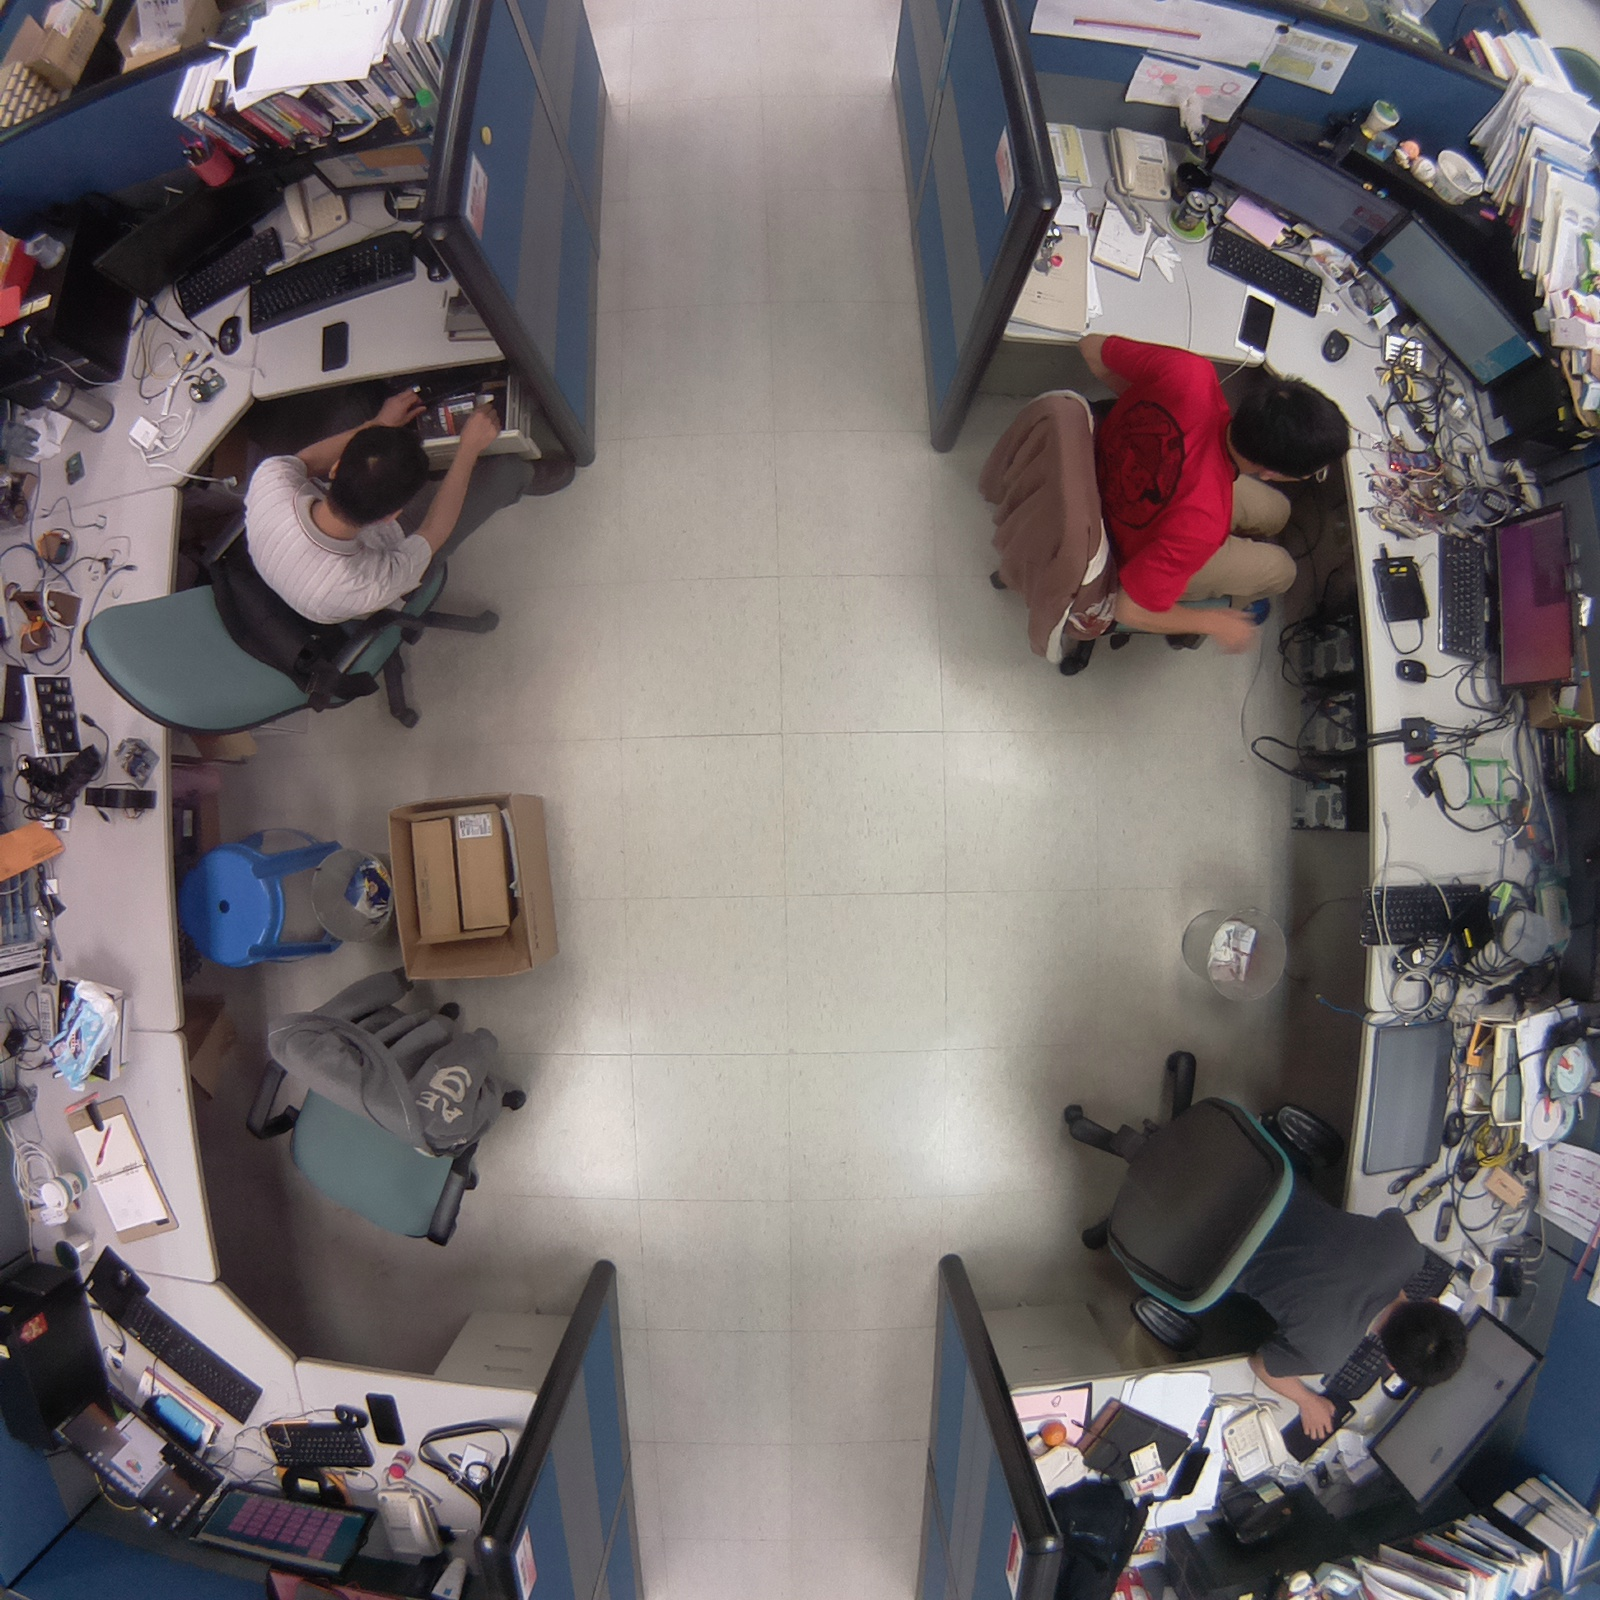chair: (229, 947, 547, 1260)
head: (1229, 376, 1362, 490), (323, 420, 435, 529), (1372, 1294, 1474, 1392)
sitting: (1047, 1032, 1478, 1445), (63, 358, 509, 752), (955, 322, 1373, 693)
